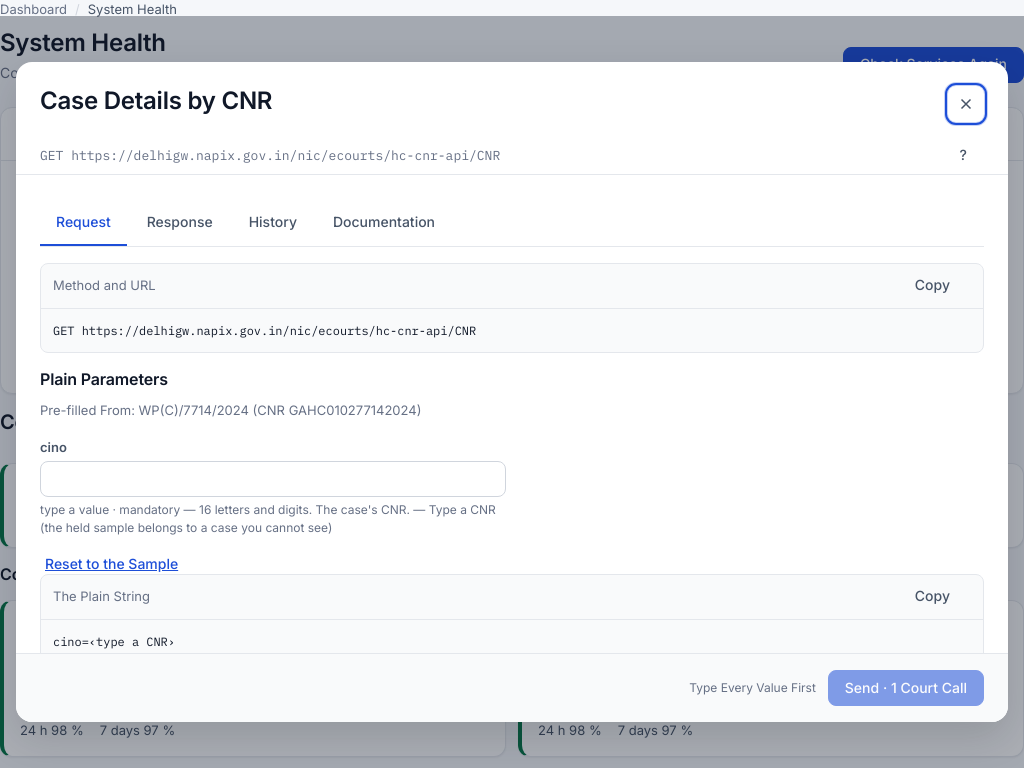
Scenario: the Request tab › an empty name with its hint keeps Send disabled, a 422 shows the field's message and a 429 the wait
Expected: the button "Send · 1 Court Call" is disabled, [828, 670, 984, 706]
Type "BAD" into the field labelled "cino". click: point(273, 479)
box: [40, 461, 506, 497]
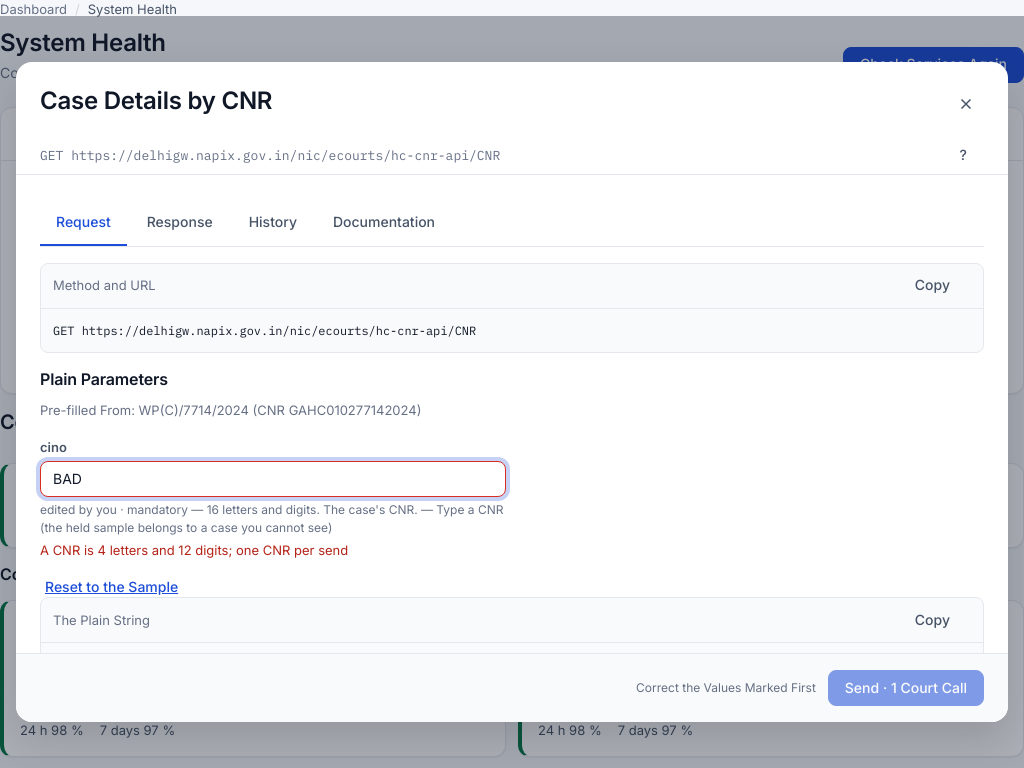
Expected: the button "Send · 1 Court Call" is disabled, [828, 670, 984, 706]
Result: the text "A CNR is 4 letters and 12 digits; one CNR per send" is shown at [40, 542, 348, 558]
